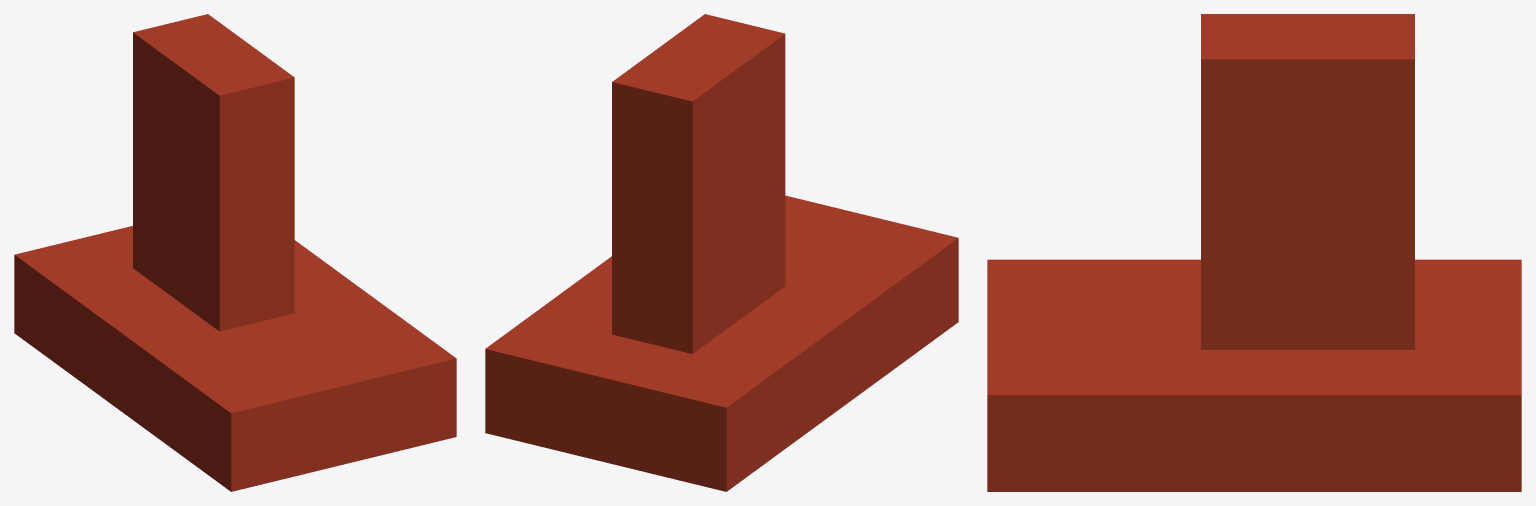
File: duck-0.obj
The picture shows the model from 3 angles, left to right: view 1: azimuth 30°, elevation 25°; view 2: azimuth 150°, elevation 25°; view 3: azimuth 270°, elevation 25°; orthographic projection. The views are drawn at different scales.
Size of the model in its own units: 0.3 by 0.4 by 0.5.
Materials: 1 (1 with a texture image).
